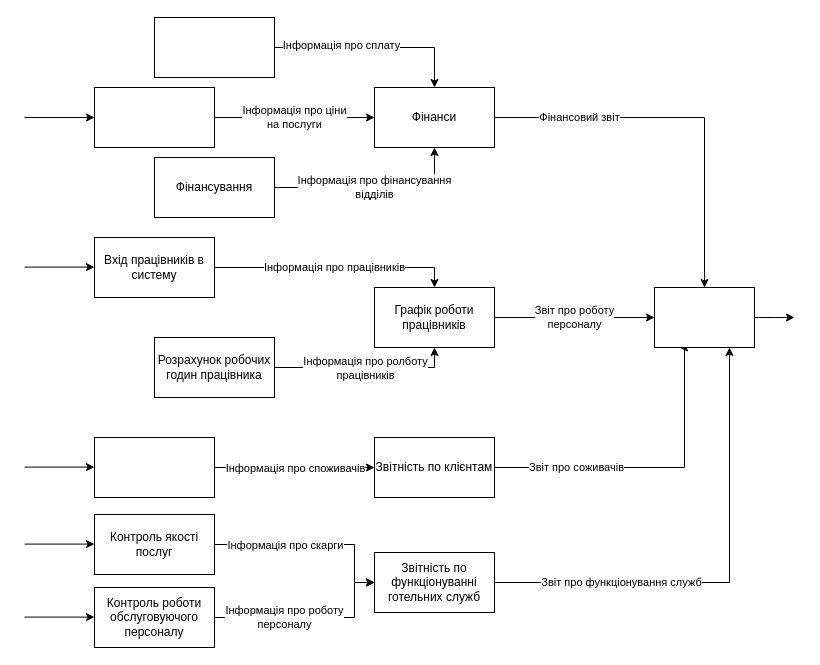
This 820x665 diagram has some shape labels left out. Each missing label, with the centre of its shape:
"Баланс-планування" belongs at point (704, 317).
"Визначення цін на послуги готельного комплексу" belongs at point (154, 117).
"Внесення клієнтів до бази готелю" belongs at point (154, 467).
"Оплата послуг клієнтами" belongs at point (214, 47).
